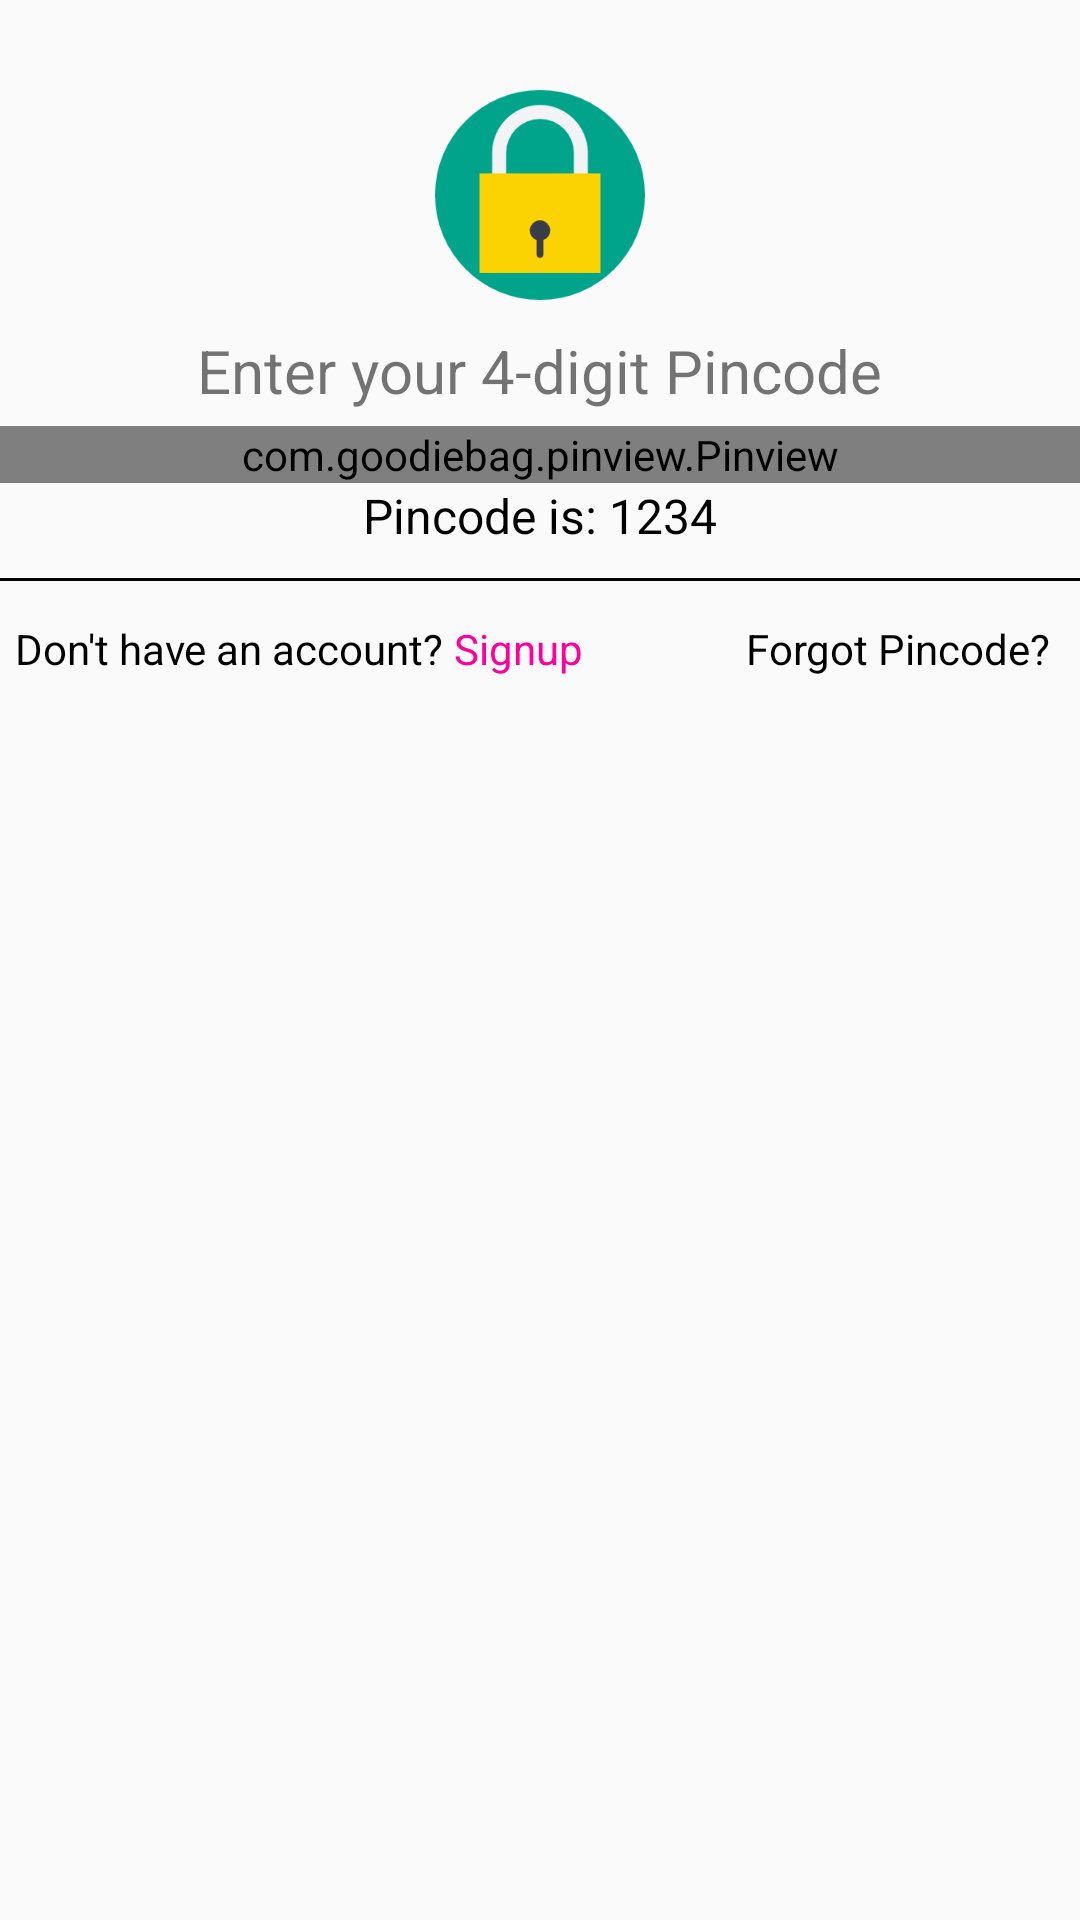

Where icons sit on this 1080 x 1920 app screen, as (x1, y1, x2, y2):
lock: (435, 90, 645, 300)
